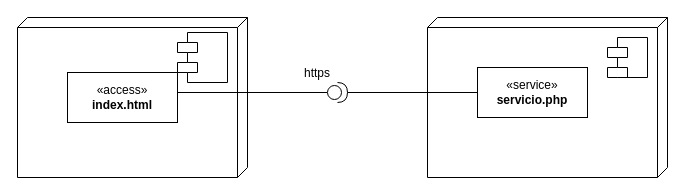
Image size: 685x195. Some labels were removed from this diagram. Here are the shapes that lost their labels. From the top down, the box of each, then its label:
(16, 16, 248, 178): Cliente
(426, 16, 668, 178): Servidor
